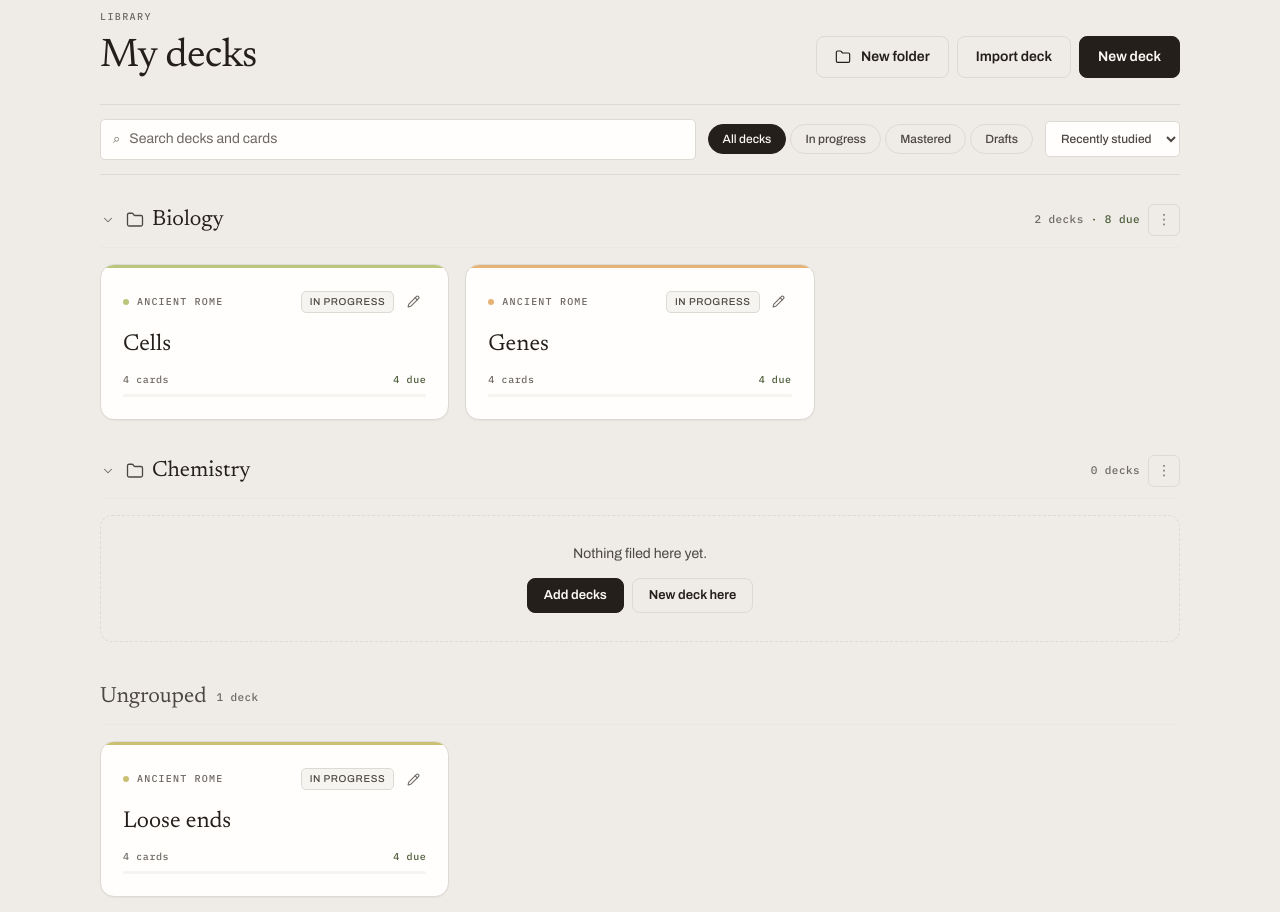
Scenario: a library with folders › hides folders with nothing matching a search, and keeps those that match
Type "Cells" into the field labelled "Search decks and cards" at (406, 140), box [129,130,683,150]
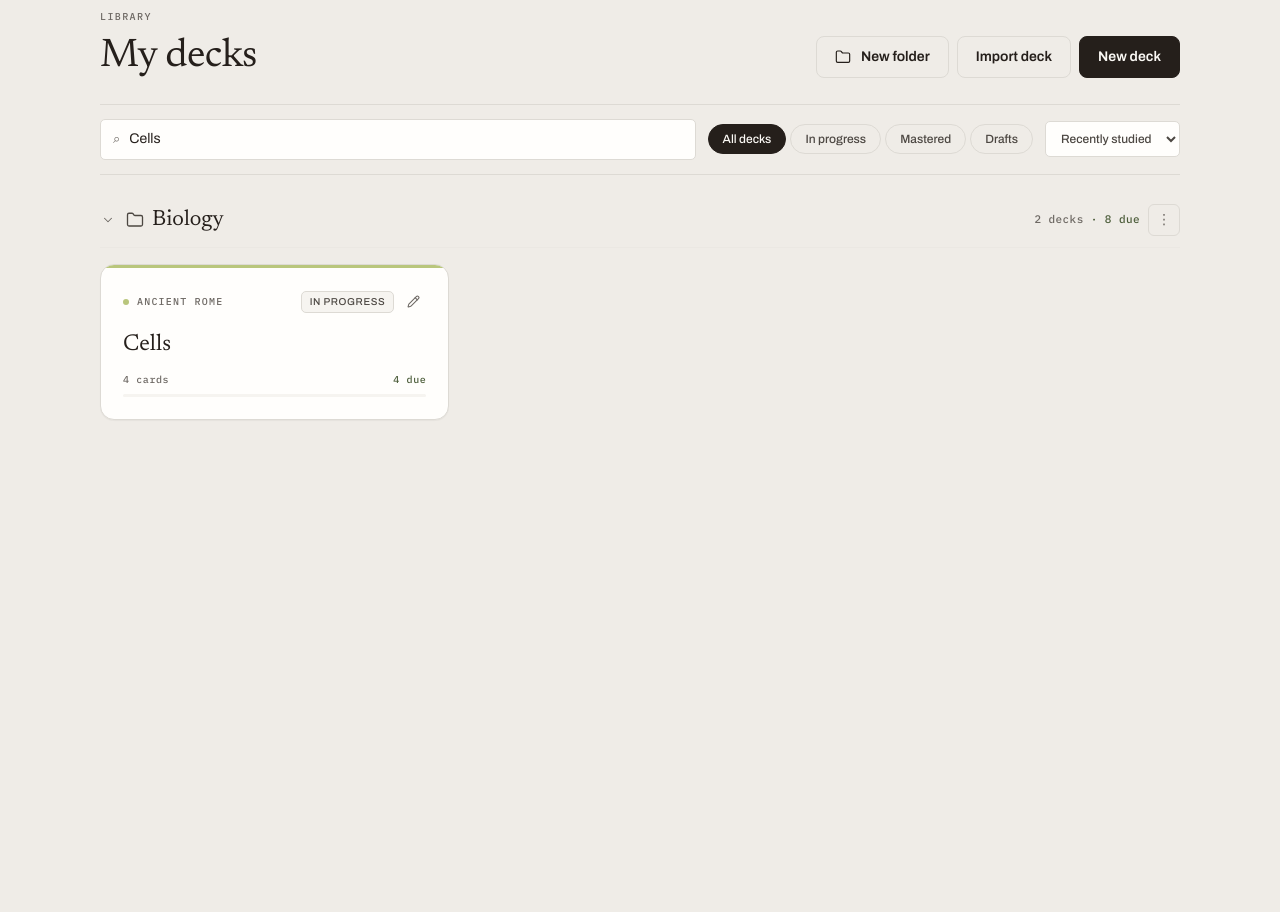
Expected: the button "Chemistry" is gone
Expected: the heading "Ungrouped" is gone
